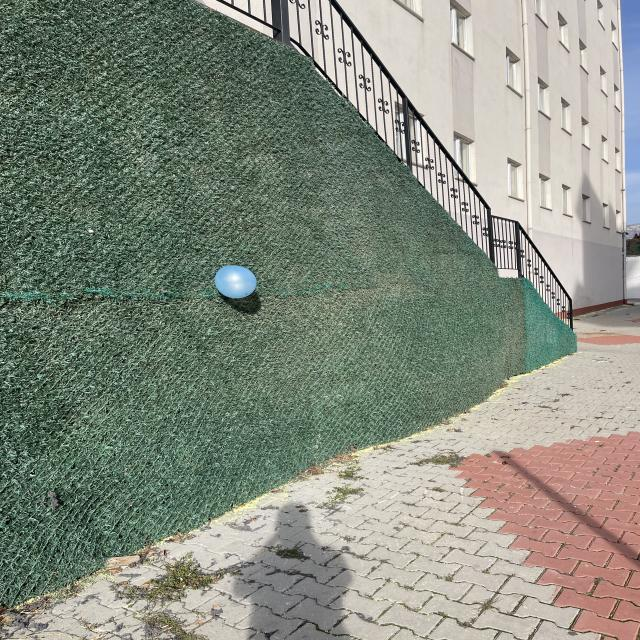balloon: (215, 265, 257, 298)
